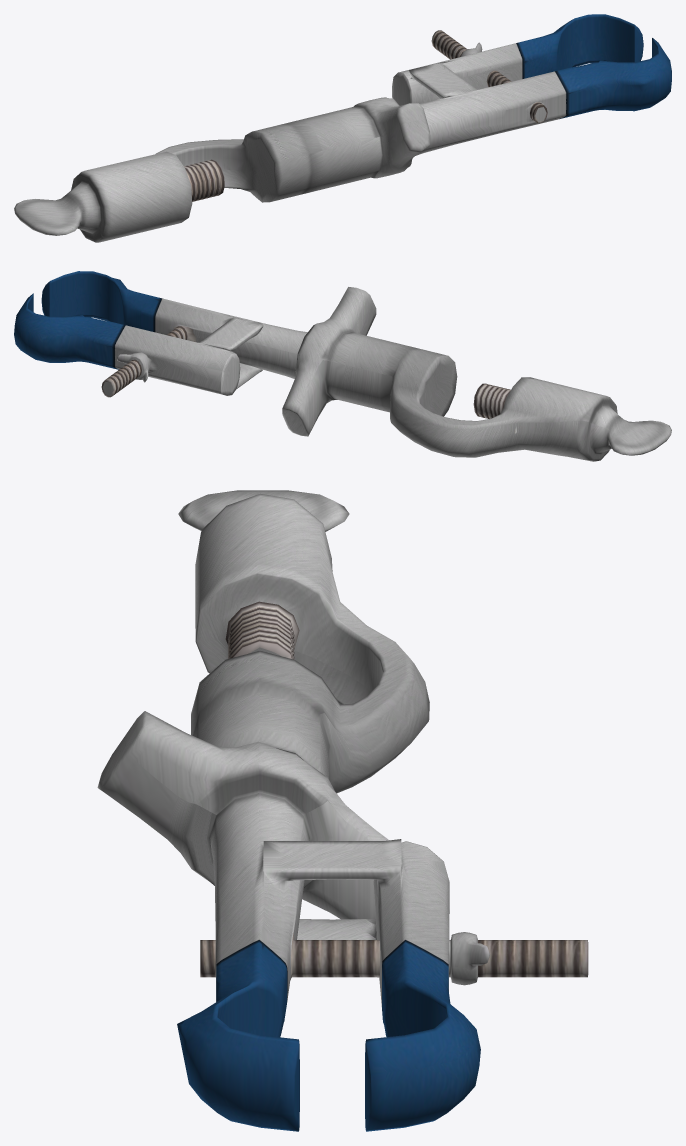
Rendered from Clamps.fbx.
The picture shows the model from 3 angles, top to bottom: view 1: azimuth 30°, elevation 25°; view 2: azimuth 150°, elevation 25°; view 3: azimuth 270°, elevation 25°; orthographic projection. The views are drawn at different scales.
Parts seen in each view (by area): view 1: Clamp; view 2: Clamp; view 3: Clamp.
Part boxes in pixels (bbox=[...]): Clamp: bbox=[14, 14, 671, 242]; Clamp: bbox=[14, 271, 671, 461]; Clamp: bbox=[97, 490, 588, 1131].
Size of the model in its own units: 0.1749 by 0.0294 by 0.0606.
